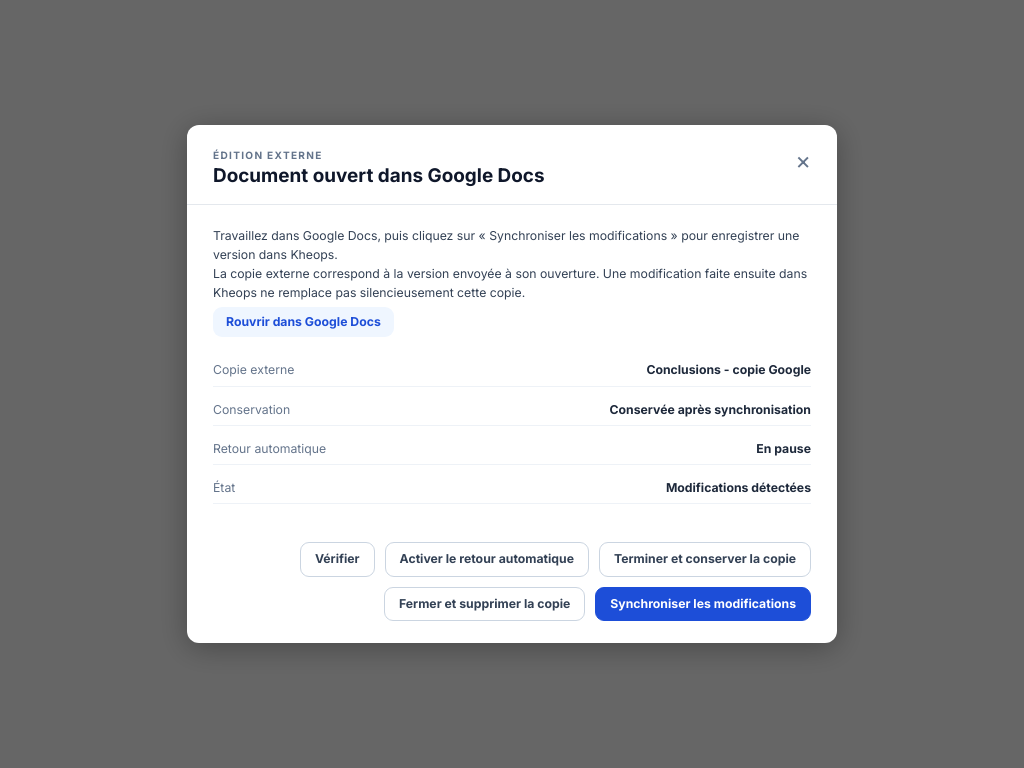
Test: ExternalEditingSessionModal › ne présente pas un verrou temporaire comme un conflit de versions
This screenshot has width=1024, height=768.
Click the button "Synchroniser les modifications": (703, 604) [595, 587, 811, 621]
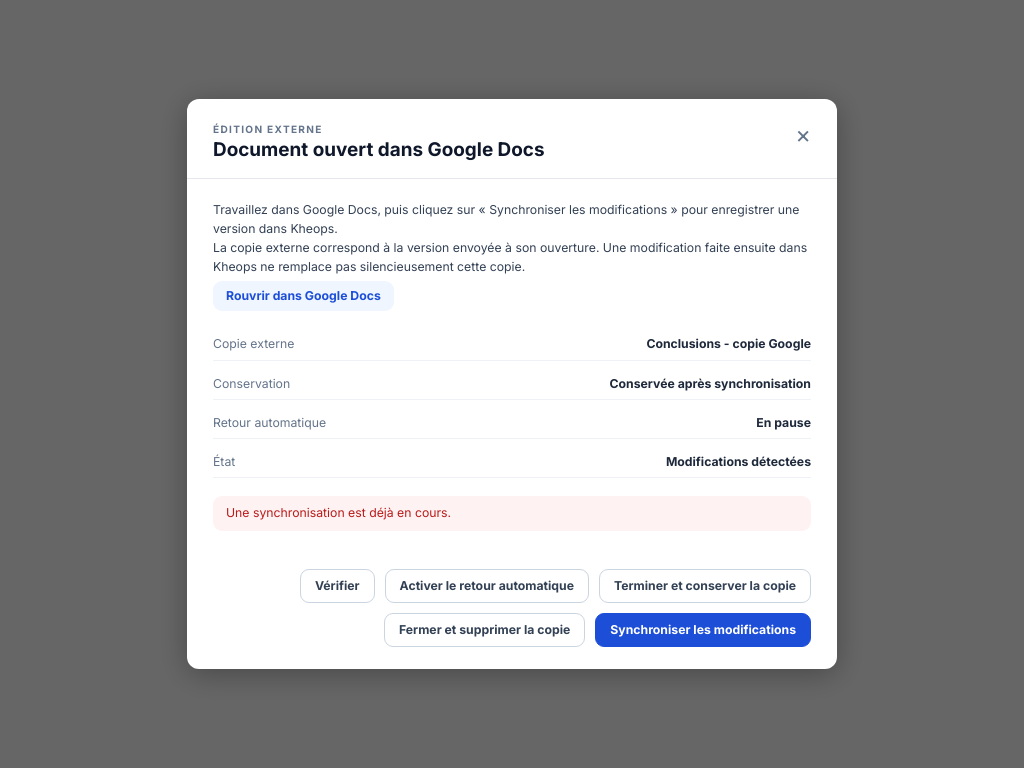
expect the text "Une synchronisation est déjà en cours." is shown: met, box [213, 496, 811, 531]
